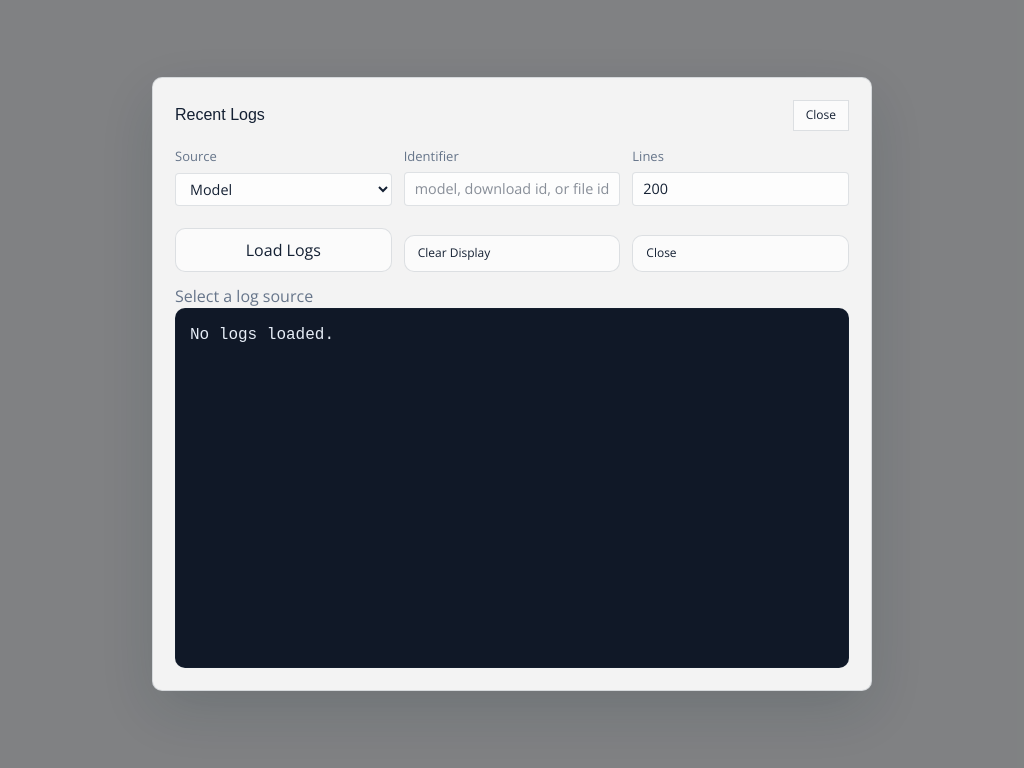
Test case: falls back to JSON logs when streaming fails
This screenshot has width=1024, height=768.
Select "Download" in the dropdown labelled "Source". click: (283, 189)
box: [175, 173, 392, 206]
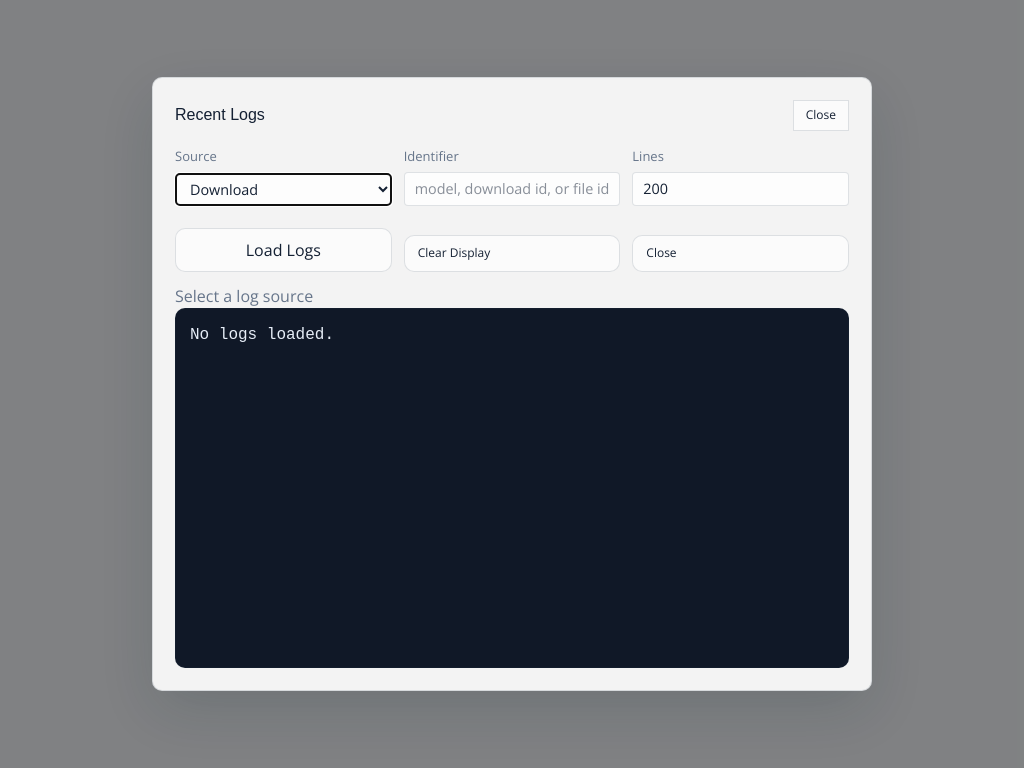
Type "download-1" into the field labelled "Identifier". click: (512, 189)
box: [404, 172, 620, 206]
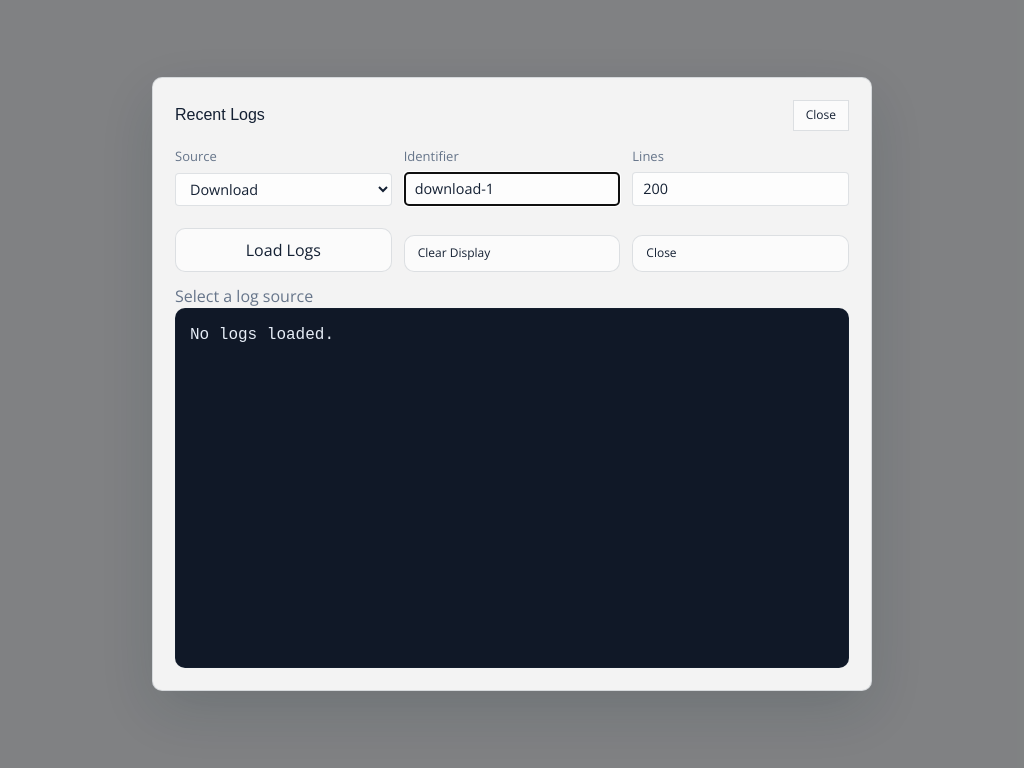
Click the button "Load Logs". click: (283, 250)
box: [175, 228, 392, 272]
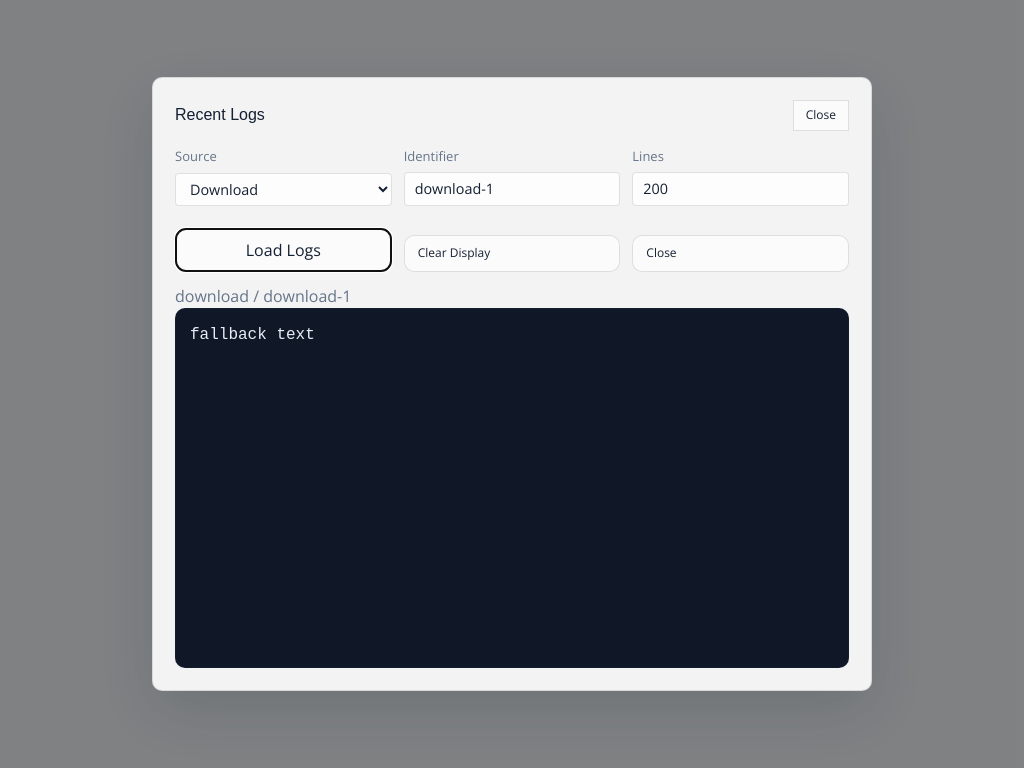
Expected: the text "fallback text" is shown, [175, 308, 849, 668]
